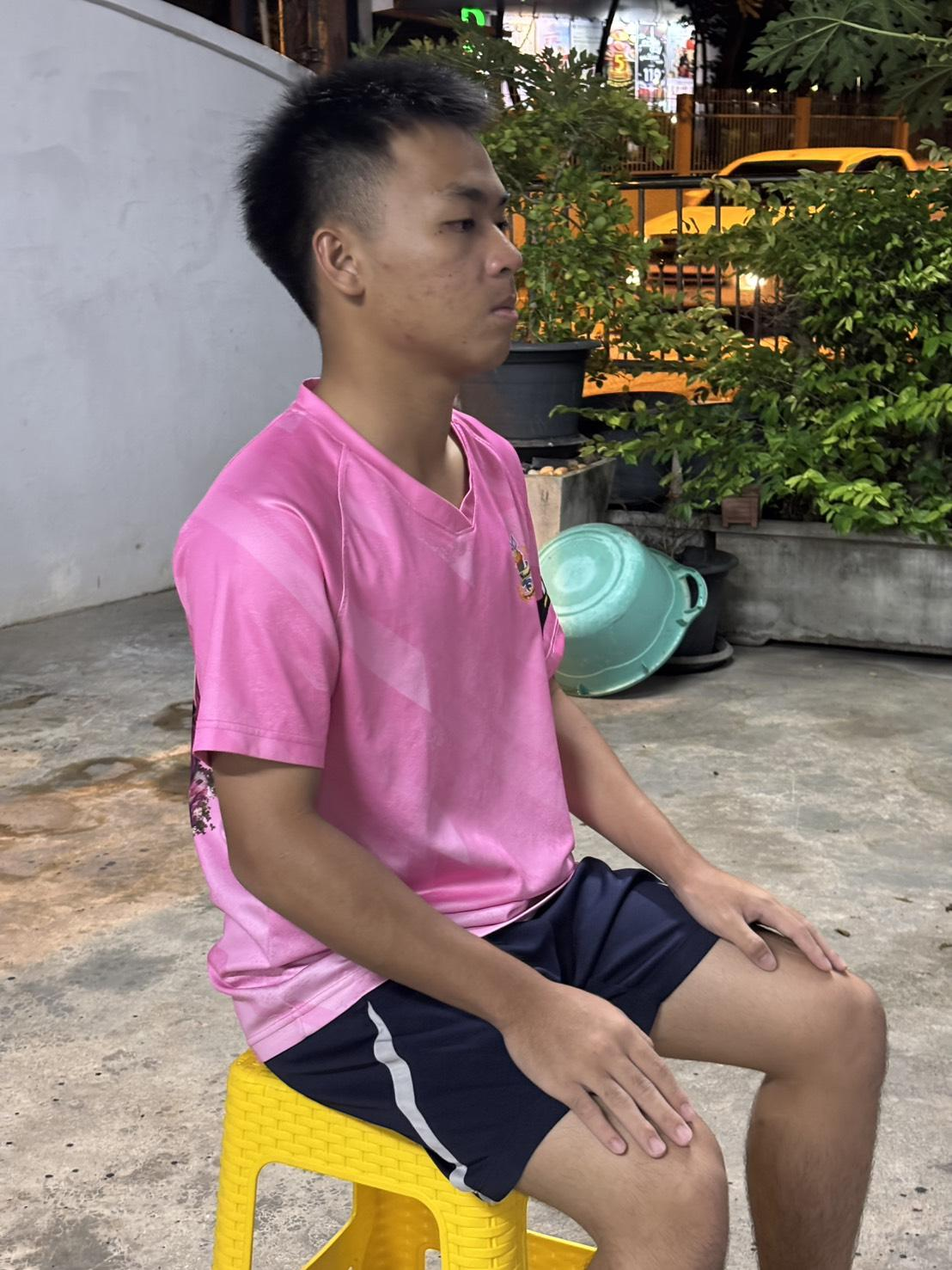GoodPosture: (175, 58, 886, 1269), (174, 58, 623, 1057)
